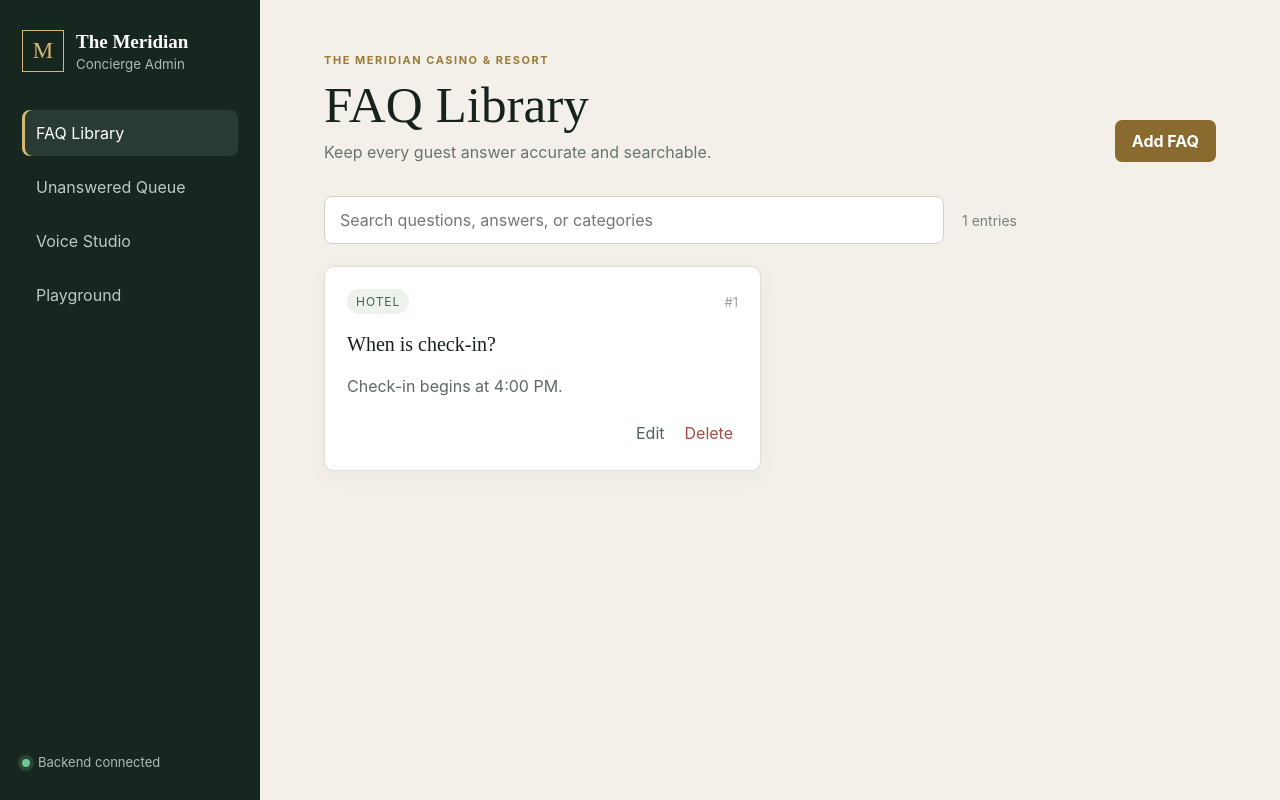
Test: Meridian admin › activates Sofia and moves the active badge
expect the heading "When is check-in?" is shown: met, box x1=347 y1=333 x2=496 y2=355
Click the button "Voice Studio": (130, 241) x1=22 y1=218 x2=238 y2=264
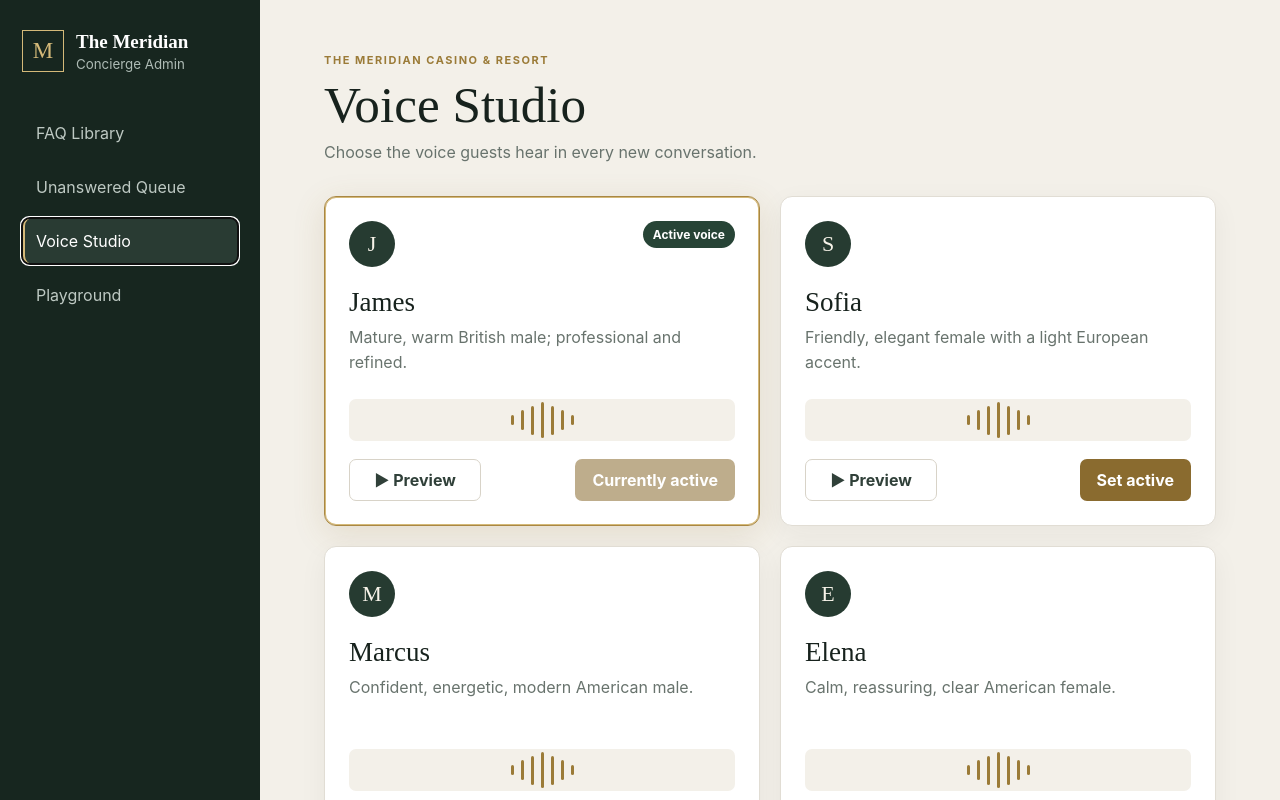
Click the button "Set active": (1135, 480) x1=1080 y1=459 x2=1191 y2=501
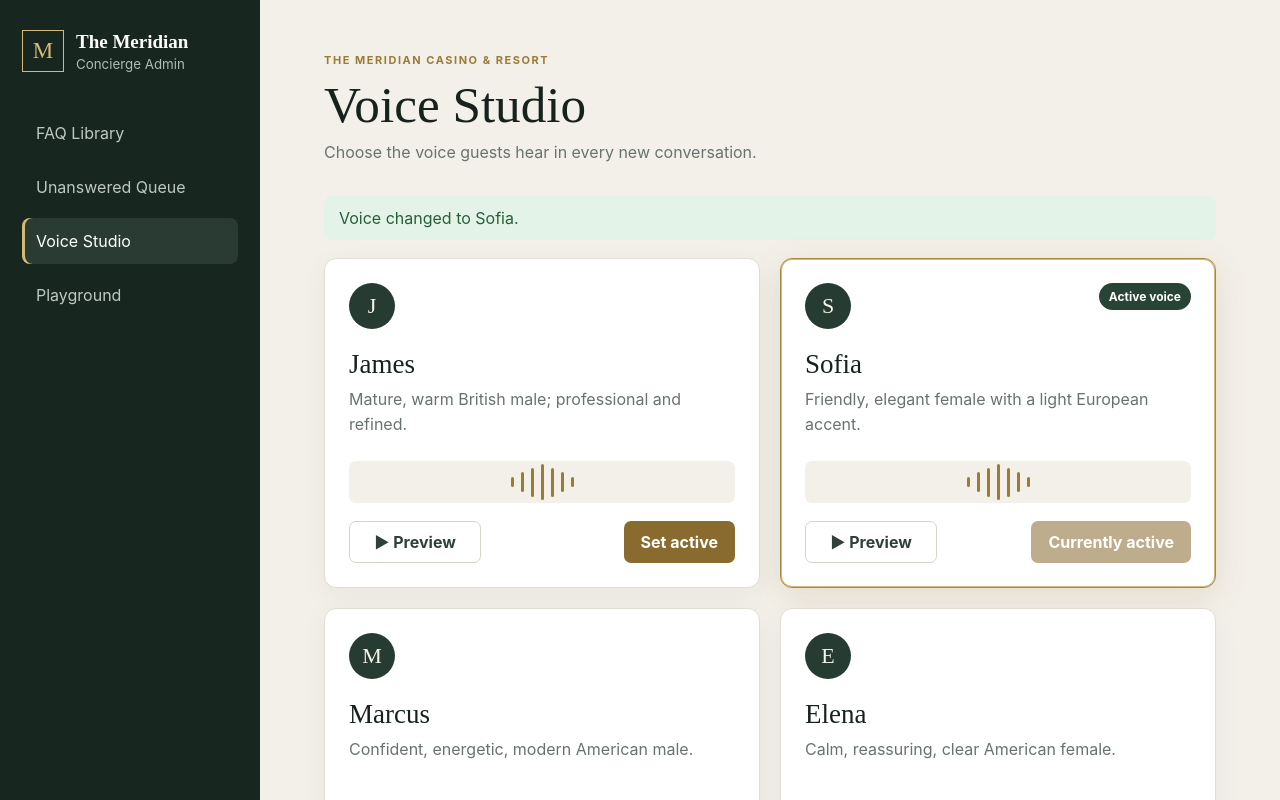
expect the text "Active voice" is shown once: met, box x1=1099 y1=283 x2=1191 y2=310
expect the text "Voice changed to Sofia." is shown: met, box x1=324 y1=196 x2=1216 y2=240
